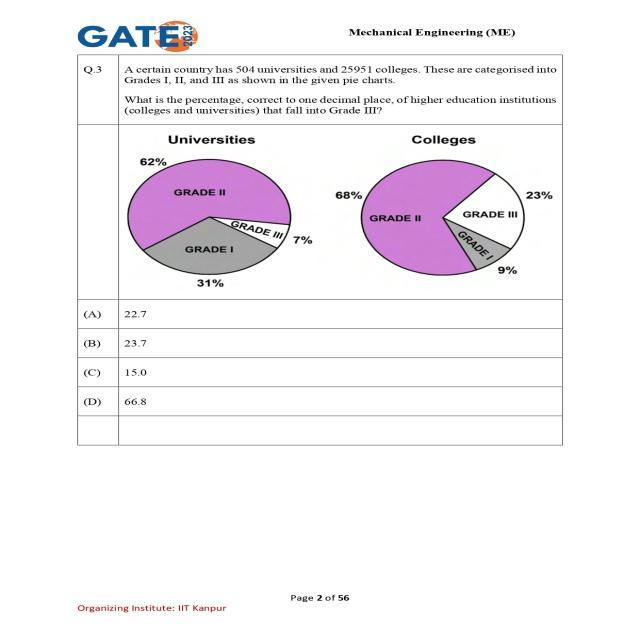Answer_Block: (75, 302, 566, 414)
Question_Answer_Block: (79, 56, 562, 417)
Question_Block: (79, 54, 566, 300)
Question_Paper_Area: (75, 57, 560, 444)
